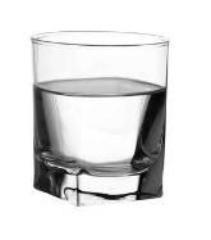glass: (28, 27, 172, 209)
